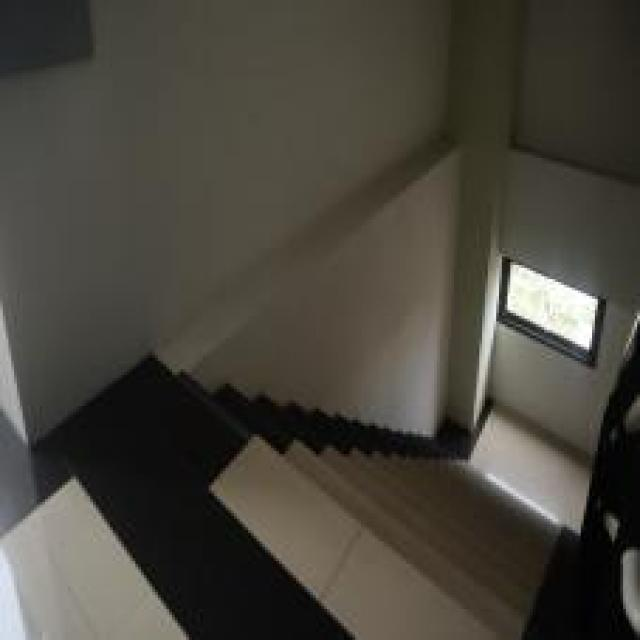downstair: (212, 469, 472, 638)
